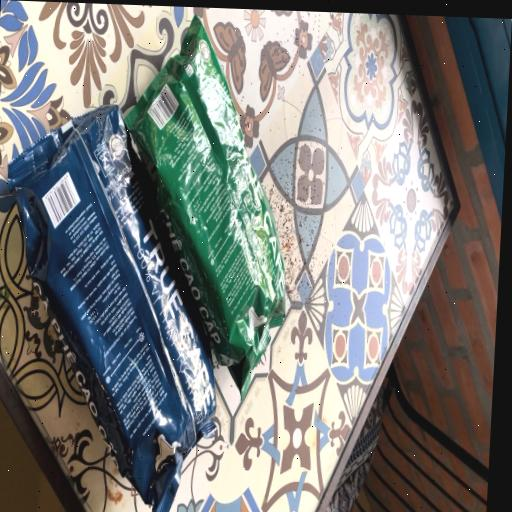cafe_hat: (7, 106, 215, 512)
cafe_xay: (124, 17, 285, 398)
